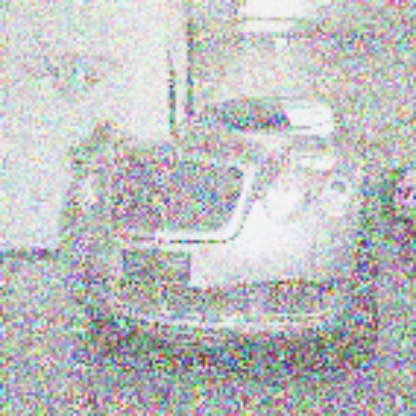Vehicle: (58, 98, 386, 356)
